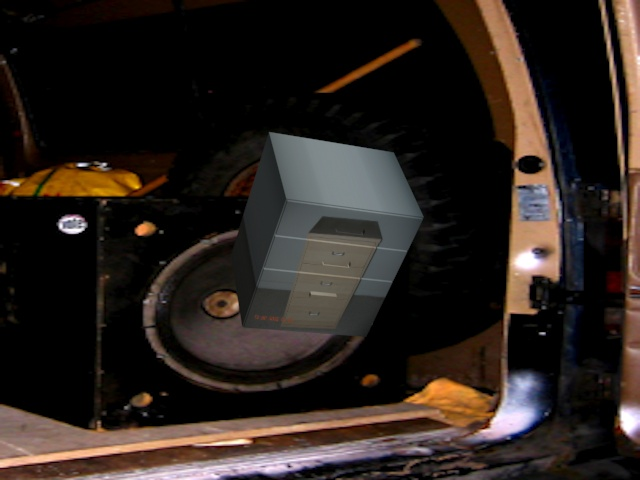file_cabinet: (225, 129, 432, 344)
